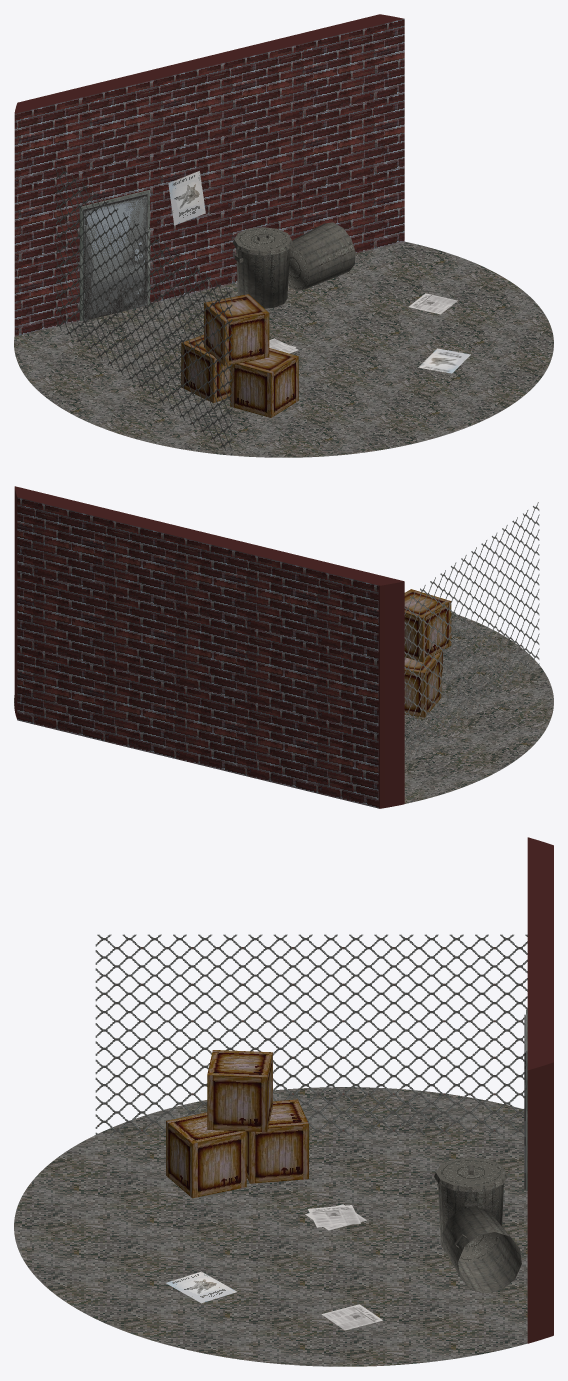
The model's file is Psx.glb.
3 views of the same model, one above another, from view 1: azimuth 30°, elevation 25°; view 2: azimuth 150°, elevation 25°; view 3: azimuth 270°, elevation 25° (orthographic). The views are drawn at different scales.
Parts seen in each view (by area): view 1: Plane.008; view 2: Plane.008; view 3: Plane.008.
Part boxes in pixels (<box>): Plane.008: <box>14,14,553,457</box>; Plane.008: <box>14,486,553,808</box>; Plane.008: <box>14,837,553,1366</box>.
Size of the model in its own units: 21.96 by 10.02 by 17.92.
Materials: 11 (10 with a texture image).
